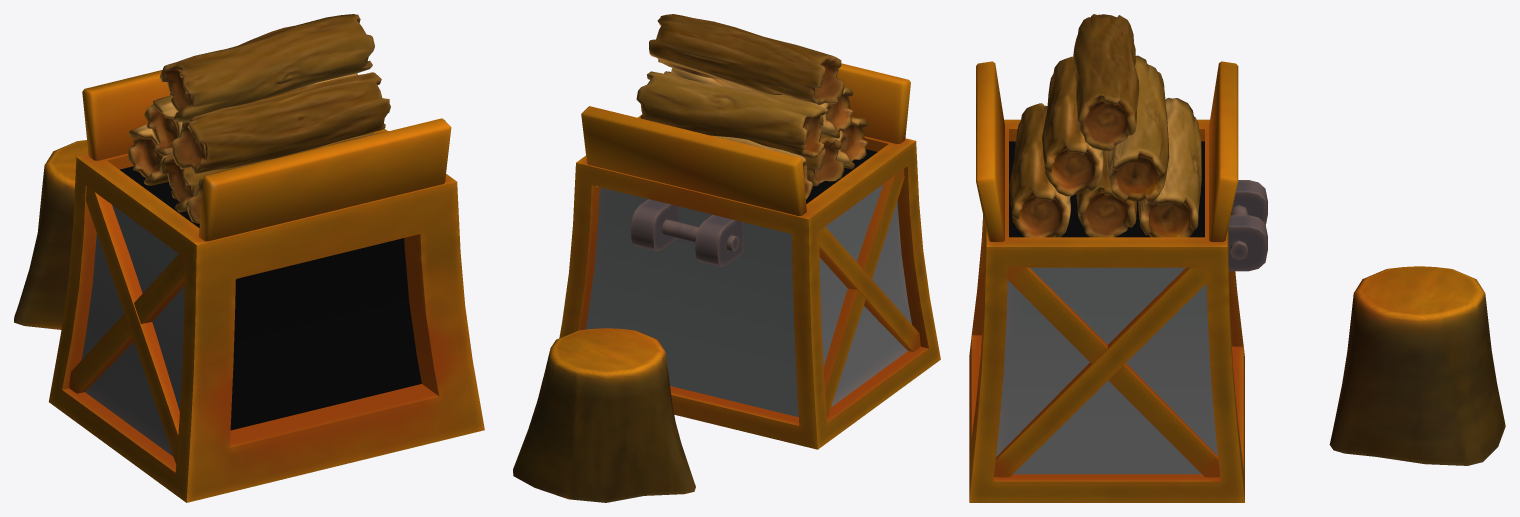
3 views of the same model, side by side, from view 1: azimuth 30°, elevation 25°; view 2: azimuth 150°, elevation 25°; view 3: azimuth 270°, elevation 25° (orthographic). The views are drawn at different scales.
Parts seen in each view (by area): view 1: Cube.002_Baked; view 2: Cube.002_Baked; view 3: Cube.002_Baked.
Part boxes in pixels (x1,y1,x2,y2): Cube.002_Baked: [14, 14, 484, 502]; Cube.002_Baked: [513, 14, 940, 502]; Cube.002_Baked: [969, 14, 1505, 502].
Bounding box in the file's own units: 96 × 117 × 149.
Materials: 1 (1 with a texture image).
